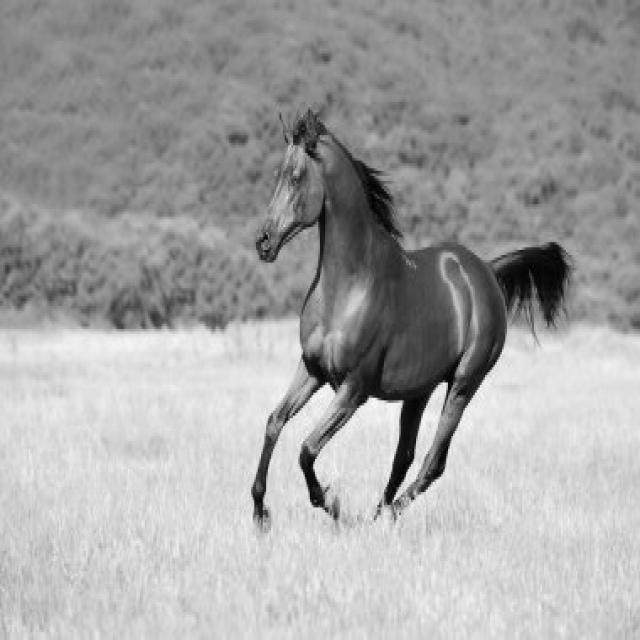Animal: (242, 99, 573, 530)
